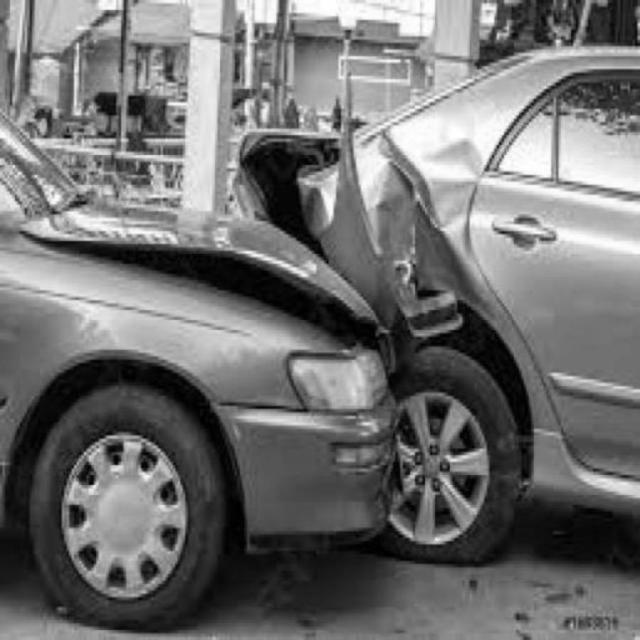accident: (7, 123, 638, 571)
